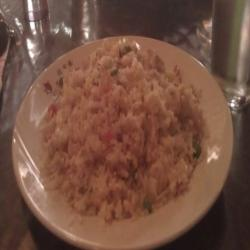rice: (56, 67, 193, 208)
